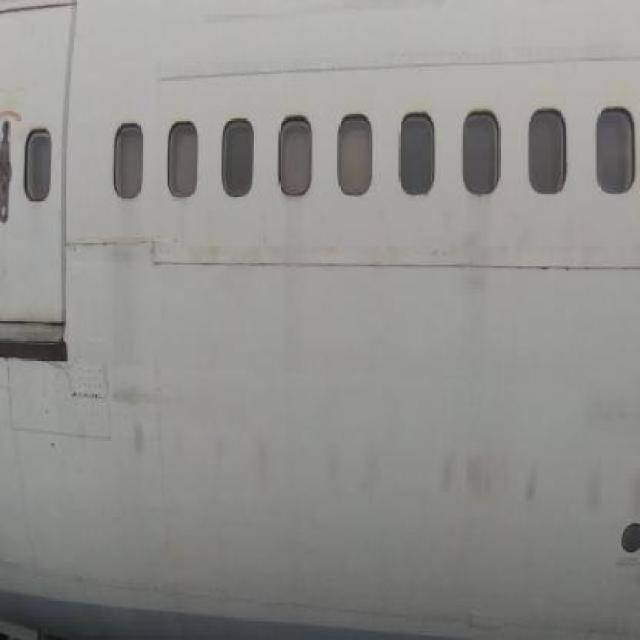Scartch: (424, 428, 640, 522), (208, 408, 290, 526), (111, 373, 187, 489), (321, 422, 388, 530)
